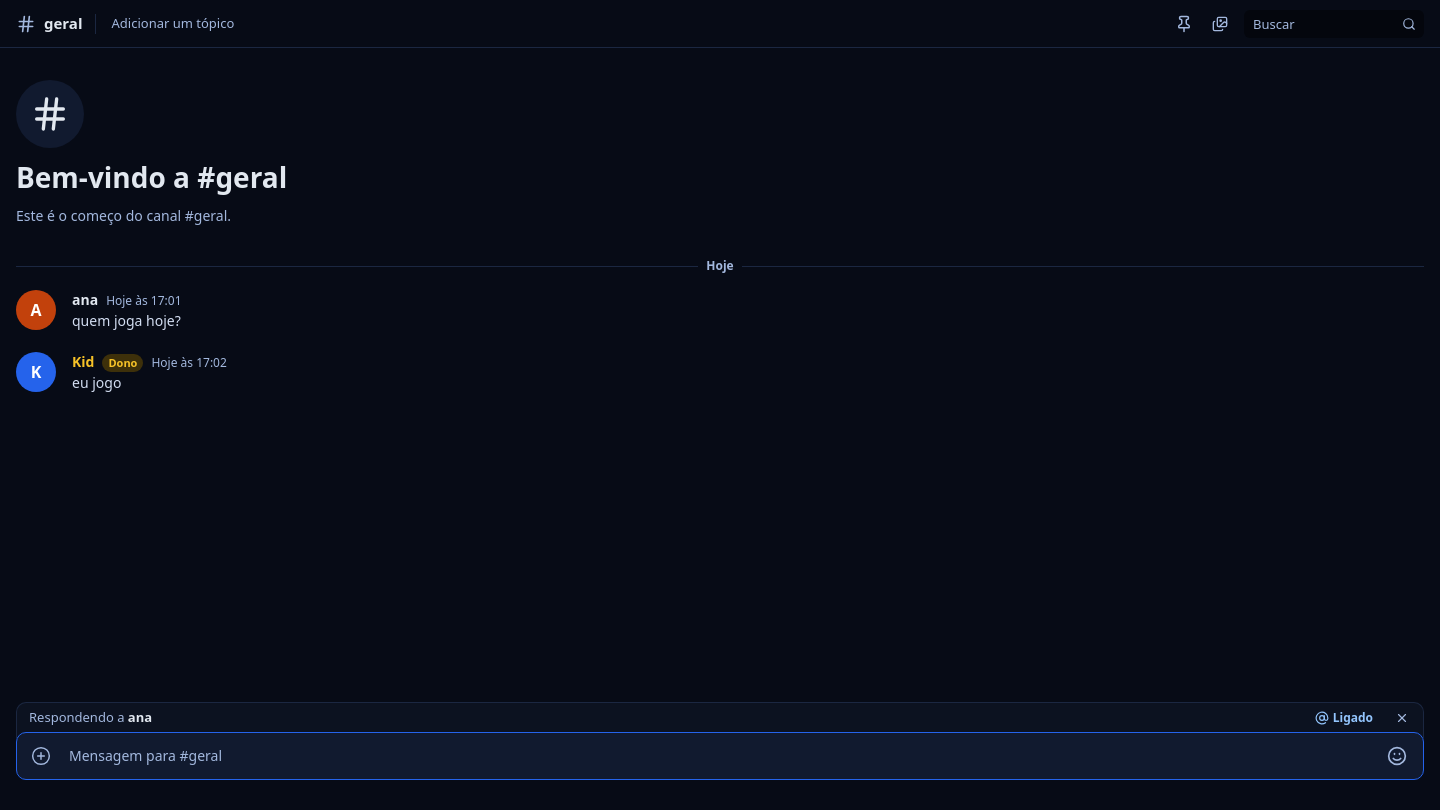
Test: as ações da mensagem › responder põe a faixa, manda o reply_to e o @ pode ser desligado
Earlier steps of the test are not shown.
Expected: the text "Respondendo a ana" is shown, [29,708,152,727]
Click the button "Ligado" at (1344, 718), box [1307,704,1381,730]
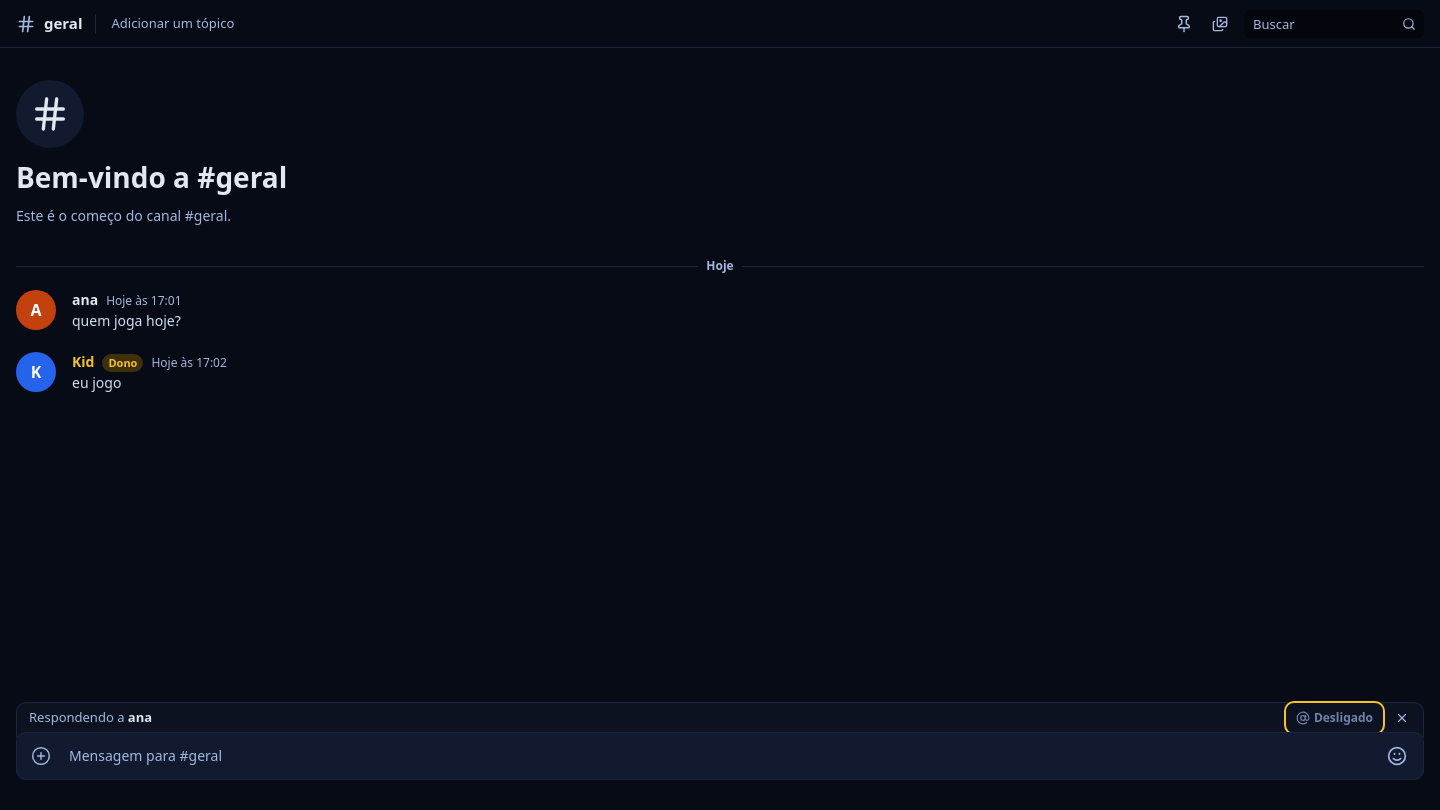
Expected: the button "Desligado" is not pressed, [1288,704,1381,730]
Type "eu" into the text box labelled "Mensagem para #geral" at (719, 756), box [59,733,1379,779]
Then press Enter
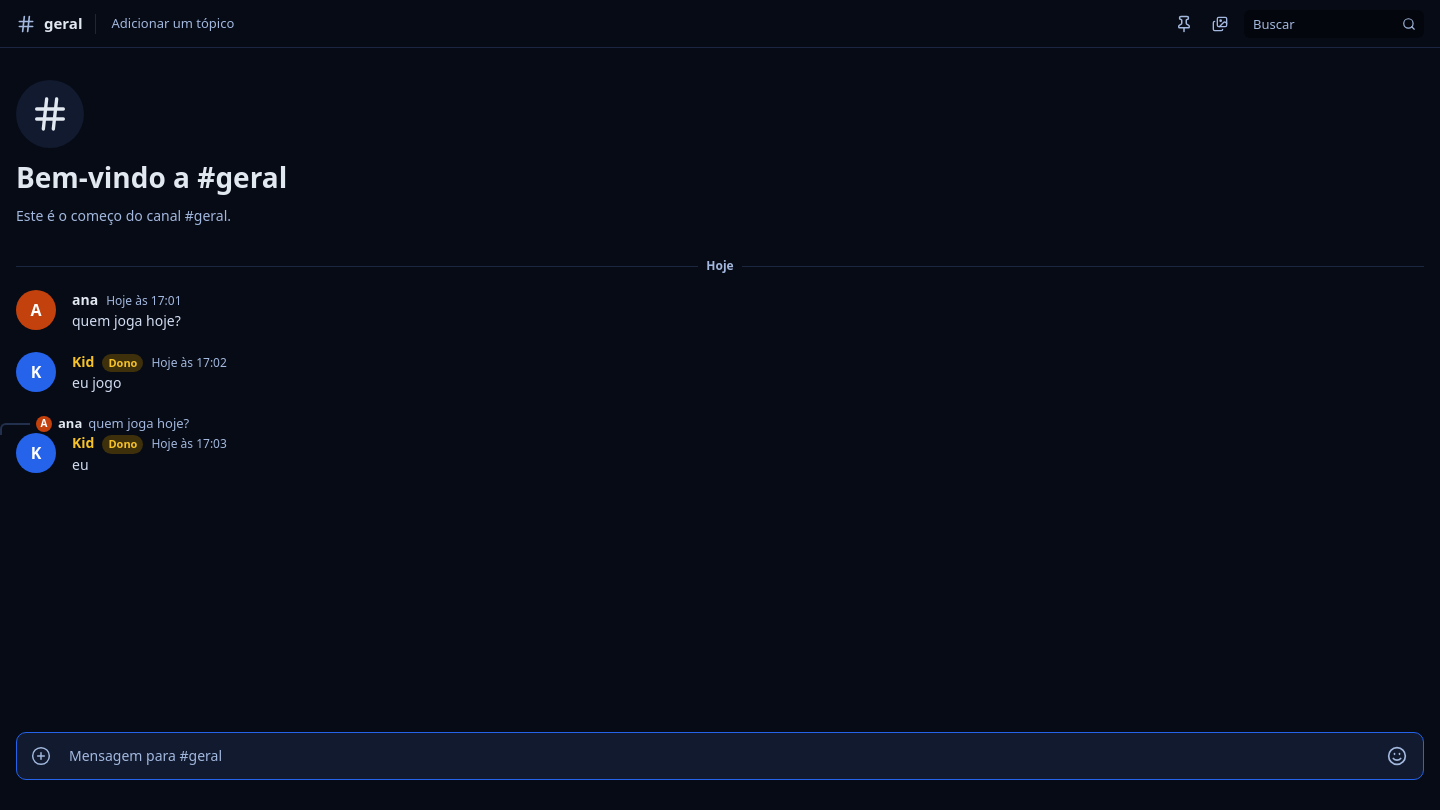
Expected: the text "Respondendo a" is gone
Expected: the button with aria-label "Ir para a mensagem de ana: quem joga hoje?" is shown, [36,414,189,433]
